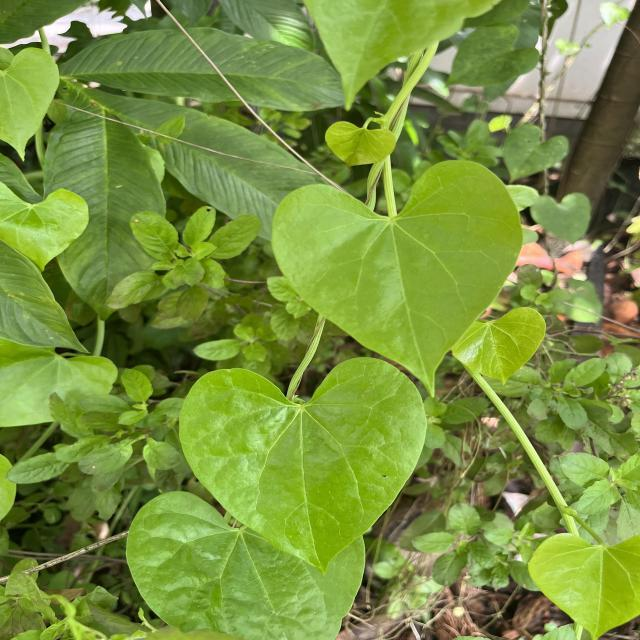Tinospora cordifolia: (268, 157, 526, 400), (176, 354, 431, 580), (122, 485, 368, 640), (524, 528, 640, 640)
